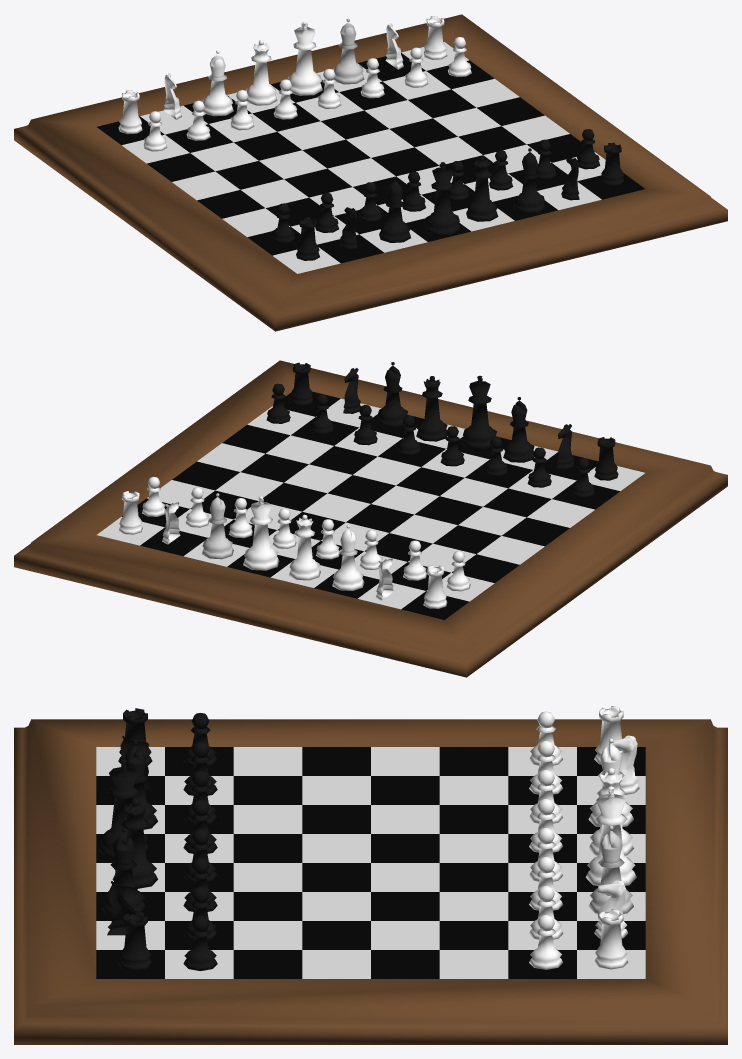
The model's file is chess.dae.
3 views of the same model, one above another, from view 1: azimuth 30°, elevation 25°; view 2: azimuth 150°, elevation 25°; view 3: azimuth 270°, elevation 25° (orthographic). The views are drawn at different scales.
Parts seen in each view (by area): view 1: Chessboard_Surround, ChessBoardWhite, ChessBoardBlack, King_001, King, Queen_001, Queen, Bishop_2_001, Bishop_001, Bishop, Bishop_2, LPRook_001 (+23 smaller); view 2: Chessboard_Surround, ChessBoardBlack, ChessBoardWhite, King, King_001, Queen, Queen_001, Bishop_2, Bishop, Bishop_001, Bishop_2_001, LPRook_002 (+23 smaller); view 3: Chessboard_Surround, ChessBoardWhite, ChessBoardBlack, King, King_001, Queen_001, Bishop, Bishop_2_001, LPRook_001, LPRook_003, White_Pawn, White_Pawn_008 (+22 smaller).
Part boxes in pixels (box(x1,y1,x2,y2)): Chessboard_Surround: box(14, 14, 727, 331); ChessBoardWhite: box(122, 42, 605, 273); ChessBoardBlack: box(97, 53, 644, 263); King_001: box(424, 162, 460, 236); King: box(287, 21, 322, 95); Queen_001: box(466, 156, 498, 221); Queen: box(246, 40, 277, 105); Bishop_2_001: box(513, 148, 545, 214); Bishop_001: box(379, 177, 410, 242); Bishop: box(333, 18, 364, 84); Bishop_2: box(202, 50, 233, 116); LPRook_001: box(423, 16, 447, 59); Chessboard_Surround: box(14, 360, 727, 677); ChessBoardBlack: box(122, 391, 619, 619); ChessBoardWhite: box(97, 398, 644, 609); King: box(243, 496, 279, 570); King_001: box(462, 375, 496, 449); Queen: box(288, 514, 320, 580); Queen_001: box(416, 376, 447, 441); Bishop_2: box(332, 525, 364, 590); Bishop: box(201, 493, 233, 559); Bishop_001: box(503, 397, 534, 462); Bishop_2_001: box(377, 362, 407, 427); LPRook_002: box(594, 437, 618, 480); Chessboard_Surround: box(14, 719, 727, 1044); ChessBoardWhite: box(96, 747, 645, 978); ChessBoardBlack: box(96, 747, 645, 978); King: box(585, 786, 636, 885); King_001: box(98, 759, 149, 859); Queen_001: box(112, 799, 157, 888); Bishop: box(588, 825, 633, 913); Bishop_2_001: box(101, 828, 146, 915); LPRook_001: box(594, 909, 628, 969); LPRook_003: box(118, 911, 152, 971); White_Pawn: box(529, 914, 563, 969); White_Pawn_008: box(183, 916, 217, 970).
Size of the model in its own units: 2.5 by 2.5 by 0.4726.
